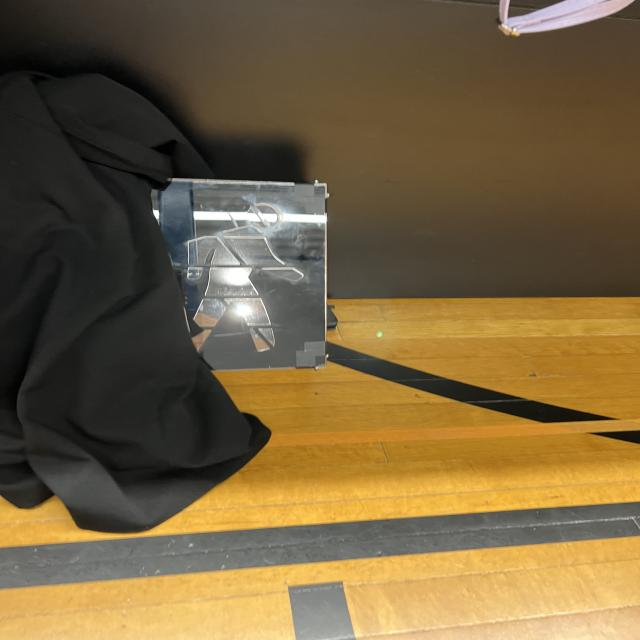go: (165, 182, 324, 364)
